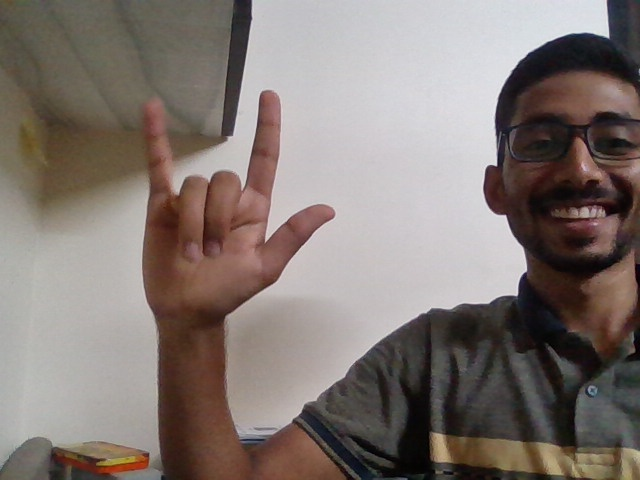Enjoy: (120, 79, 345, 344)
